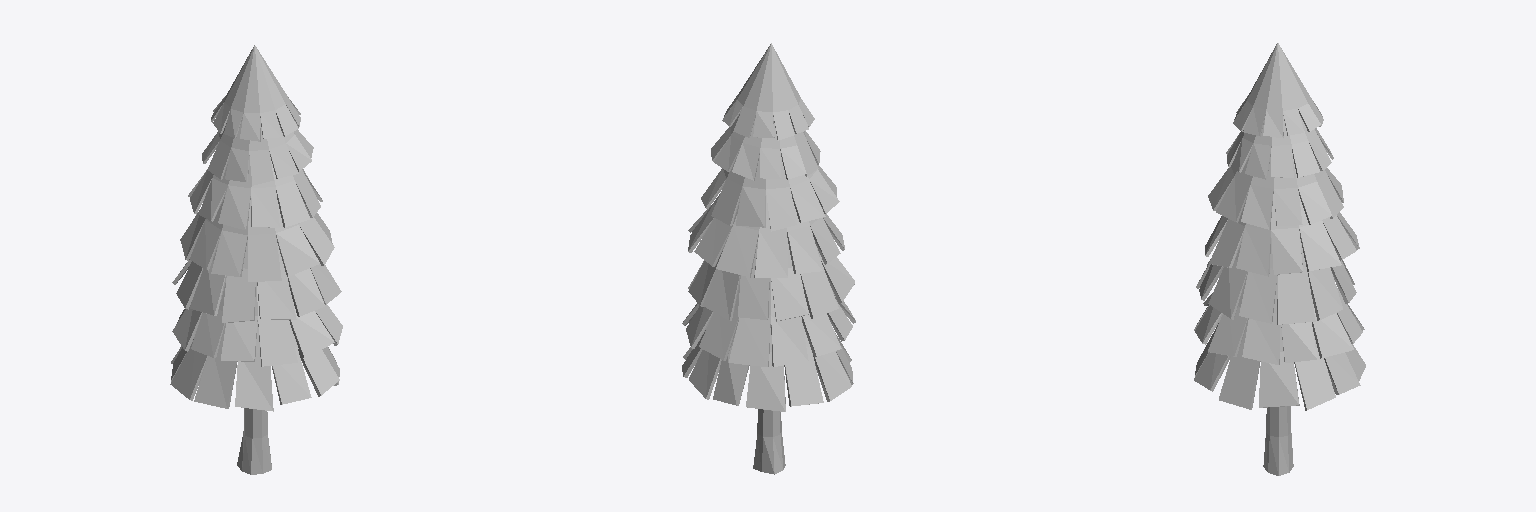
Rendered from mytree3.obj.
The picture shows the model from 3 angles: view 1: azimuth 30°, elevation 25°; view 2: azimuth 150°, elevation 25°; view 3: azimuth 270°, elevation 25°; orthographic projection.
Parts seen in each view (by area): view 1: Tree3_1.001_Cylinder.028; view 2: Tree3_1.001_Cylinder.028; view 3: Tree3_1.001_Cylinder.028.
Boxes of the visible parts, <box> form: Tree3_1.001_Cylinder.028: <box>170,45,342,474</box>; Tree3_1.001_Cylinder.028: <box>682,43,855,474</box>; Tree3_1.001_Cylinder.028: <box>1194,43,1365,475</box>.
Size of the model in its own units: 14.34 by 38.62 by 14.23.